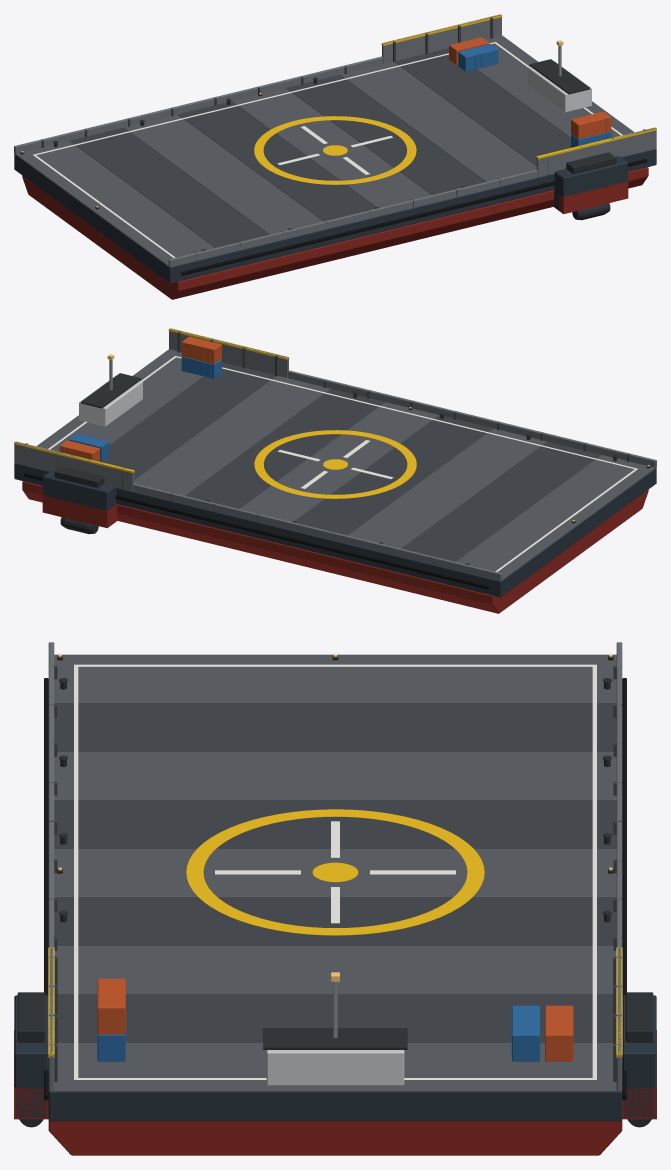
File: Droneship.fbx
The picture shows the model from 3 angles, top to bottom: view 1: azimuth 30°, elevation 25°; view 2: azimuth 150°, elevation 25°; view 3: azimuth 270°, elevation 25°; orthographic projection. The views are drawn at different scales.
Visible parts, largest first — view 1: Droneship; view 2: Droneship; view 3: Droneship.
Part boxes in pixels (bbox=[...]): Droneship: bbox=[14, 14, 656, 299]; Droneship: bbox=[14, 328, 656, 613]; Droneship: bbox=[14, 642, 656, 1155].
Bounding box in the file's own units: 90 × 18.1 × 56.04.
